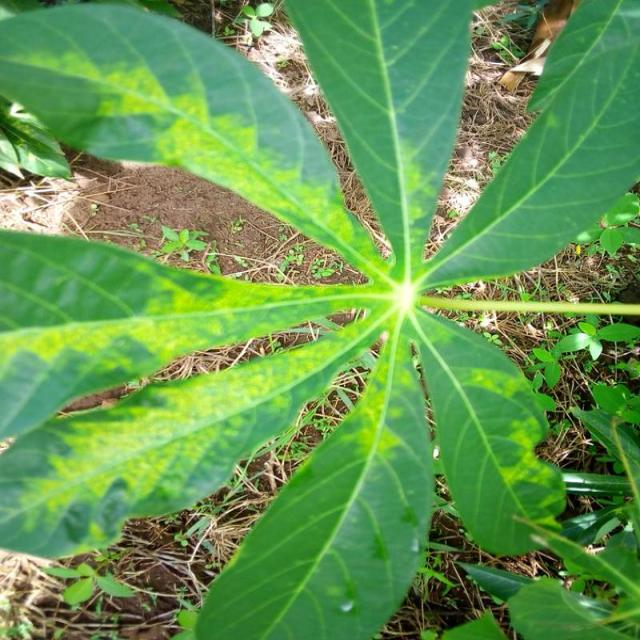cassava leaf: (2, 0, 639, 638), (2, 0, 391, 283), (179, 315, 435, 638), (414, 0, 640, 291)
